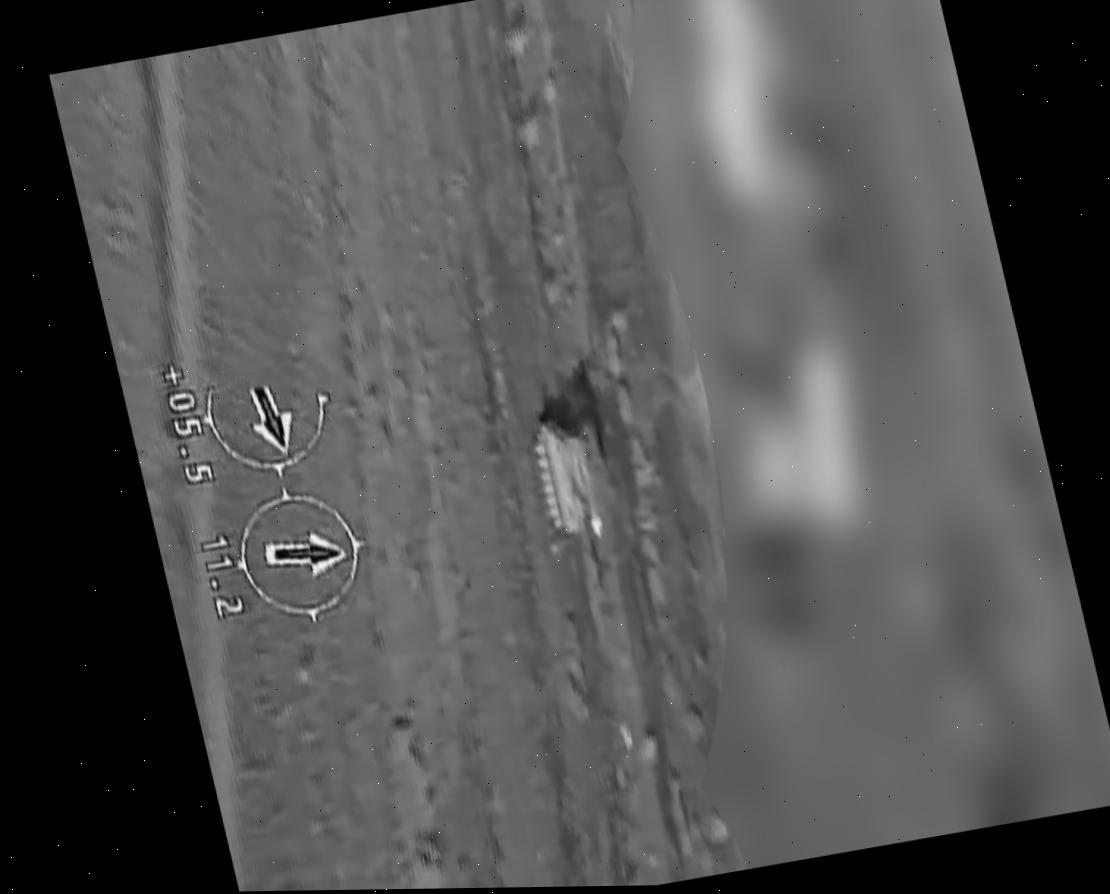armored_car: (517, 401, 622, 556)
